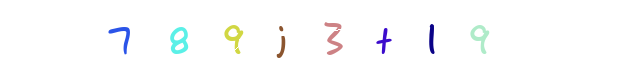1: (347, 0, 427, 80)
3: (275, 0, 355, 80)
7: (139, 0, 219, 80)
8: (149, 0, 229, 80)
9: (194, 0, 274, 80), (369, 0, 449, 80)
J: (241, 0, 321, 80)
T: (291, 0, 371, 80)
